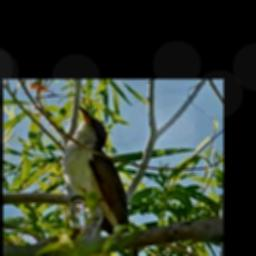Cuckoo: (62, 106, 150, 256)
